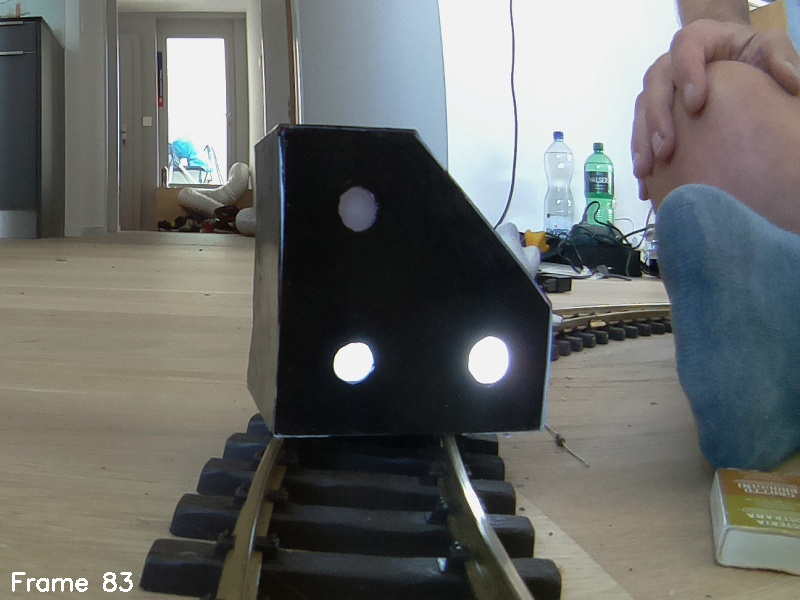Halt: (250, 124, 546, 434)
